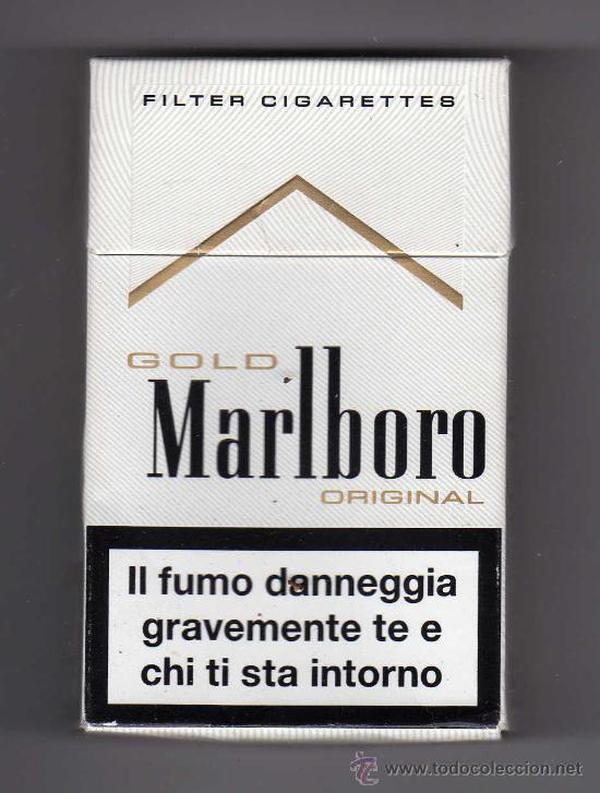marlboro_gold: (90, 66, 505, 737)
